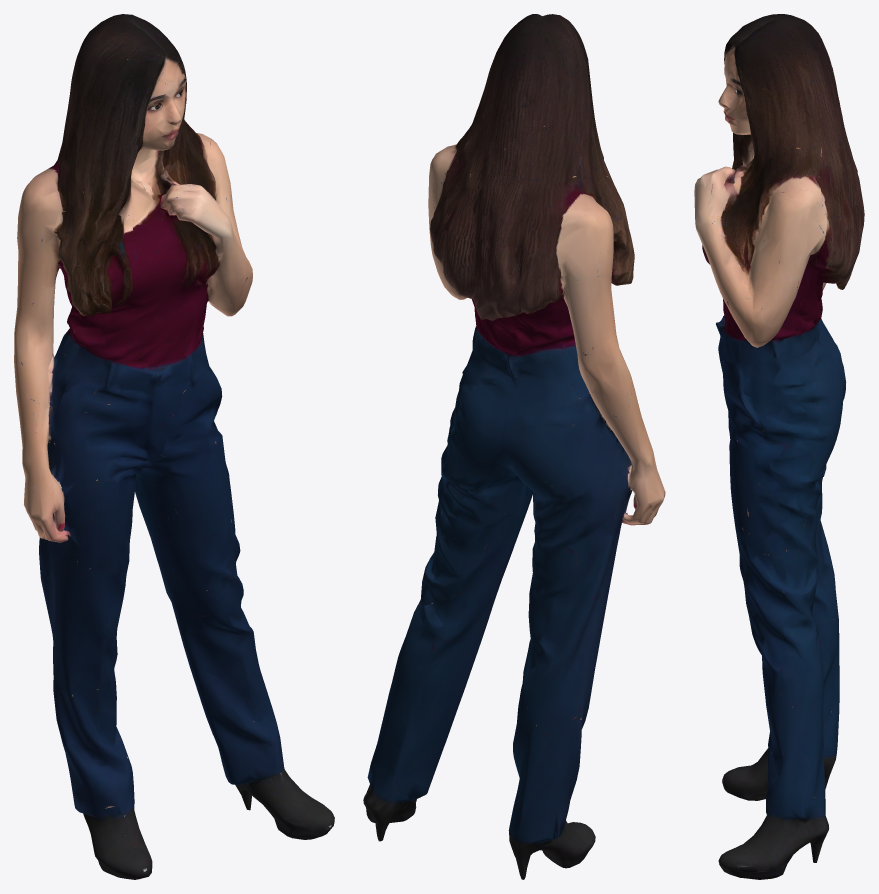
Rendered from quiet-confidence-burgundy-navy.glb.
The picture shows the model from 3 angles, left to right: view 1: azimuth 30°, elevation 25°; view 2: azimuth 150°, elevation 25°; view 3: azimuth 270°, elevation 25°; orthographic projection. The views are drawn at different scales.
Visible parts, largest first — view 1: mesh_0; view 2: mesh_0; view 3: mesh_0.
Boxes of the visible parts, x1=… form: mesh_0: x1=14, y1=14, x2=334, y2=879; mesh_0: x1=363, y1=14, x2=665, y2=879; mesh_0: x1=694, y1=14, x2=864, y2=879.
Size of the model in its own units: 0.5944 by 1.63 by 0.3212.
1 material, 1 textured.
